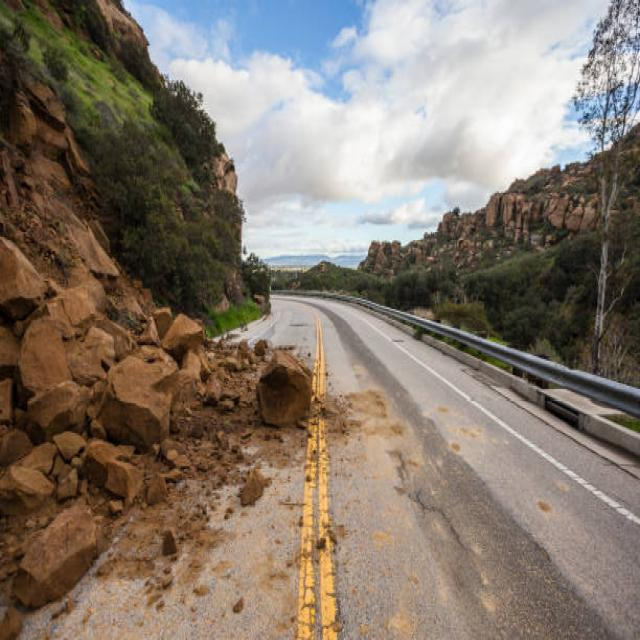landSliding: (24, 160, 461, 614)
